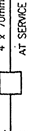Cable Termination Box: (0, 70, 28, 97)
